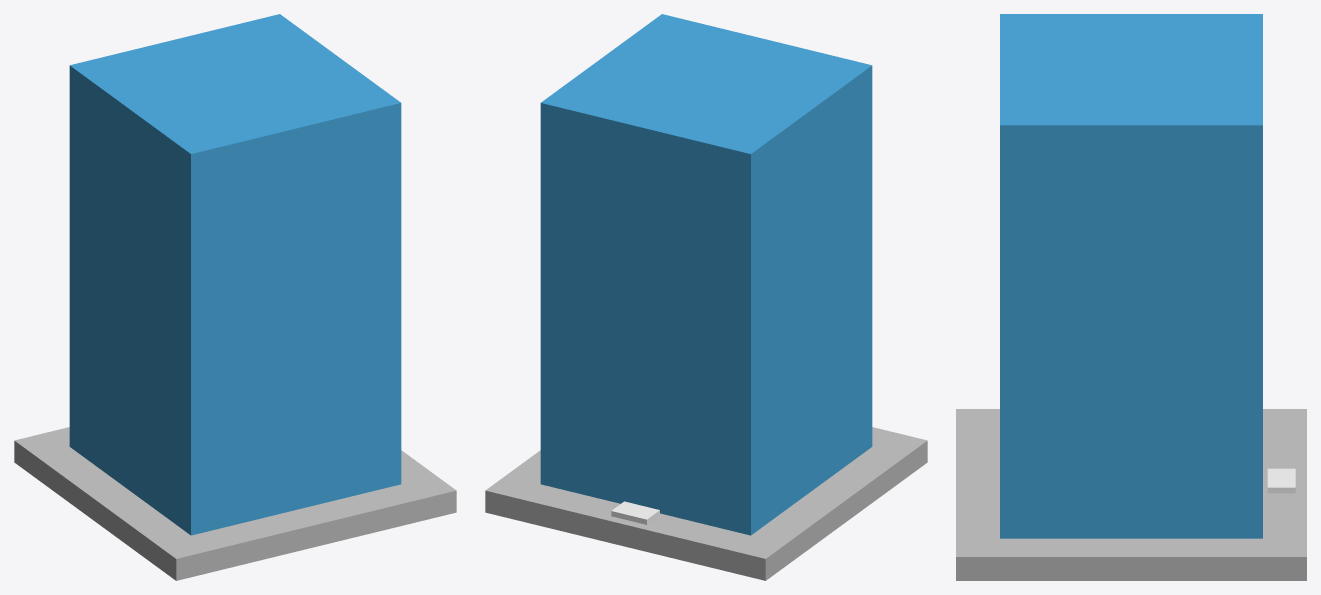
The model's file is building1 1.fbx.
3 views of the same model, side by side, from view 1: azimuth 30°, elevation 25°; view 2: azimuth 150°, elevation 25°; view 3: azimuth 270°, elevation 25° (orthographic). The views are drawn at different scales.
Parts seen in each view (by area): view 1: Empty_Tile.002, Empty_Tile.001; view 2: Empty_Tile.002, Empty_Tile.001, Empty_Tile.004; view 3: Empty_Tile.002, Empty_Tile.001, Empty_Tile.004.
Part boxes in pixels (left/top/right/bottom): Empty_Tile.002: left=69, top=14, right=401, bottom=535; Empty_Tile.001: left=14, top=427, right=456, bottom=580; Empty_Tile.002: left=540, top=14, right=872, bottom=535; Empty_Tile.001: left=485, top=427, right=927, bottom=580; Empty_Tile.004: left=611, top=501, right=659, bottom=524; Empty_Tile.002: left=1000, top=14, right=1262, bottom=538; Empty_Tile.001: left=956, top=409, right=1306, bottom=580; Empty_Tile.004: left=1267, top=468, right=1295, bottom=493.
Size of the model in its own units: 800 by 1100 by 800.
